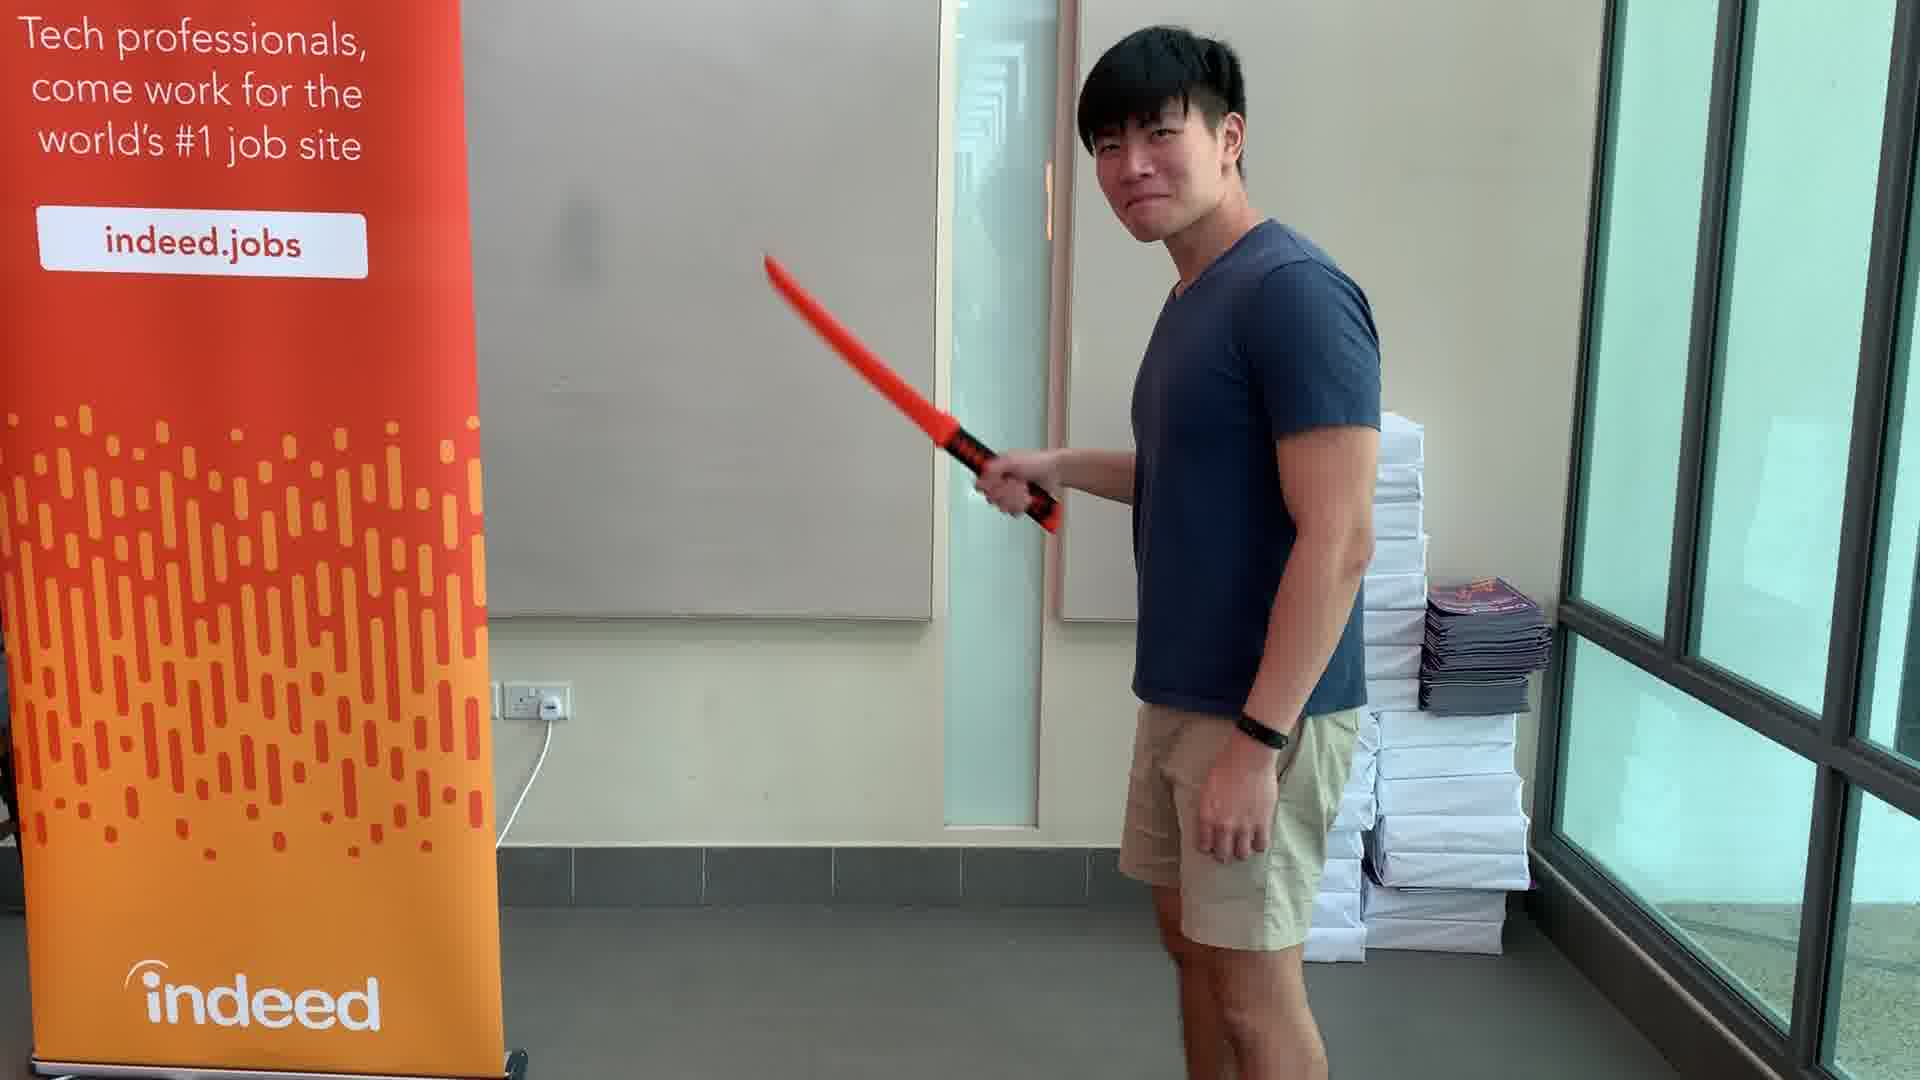knife: (756, 251, 1073, 545)
